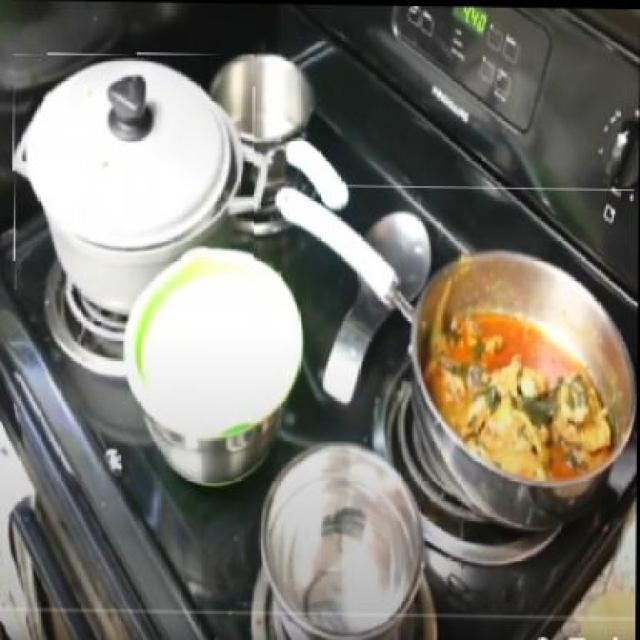pot: (283, 183, 637, 518), (14, 51, 256, 292), (211, 55, 347, 208)
